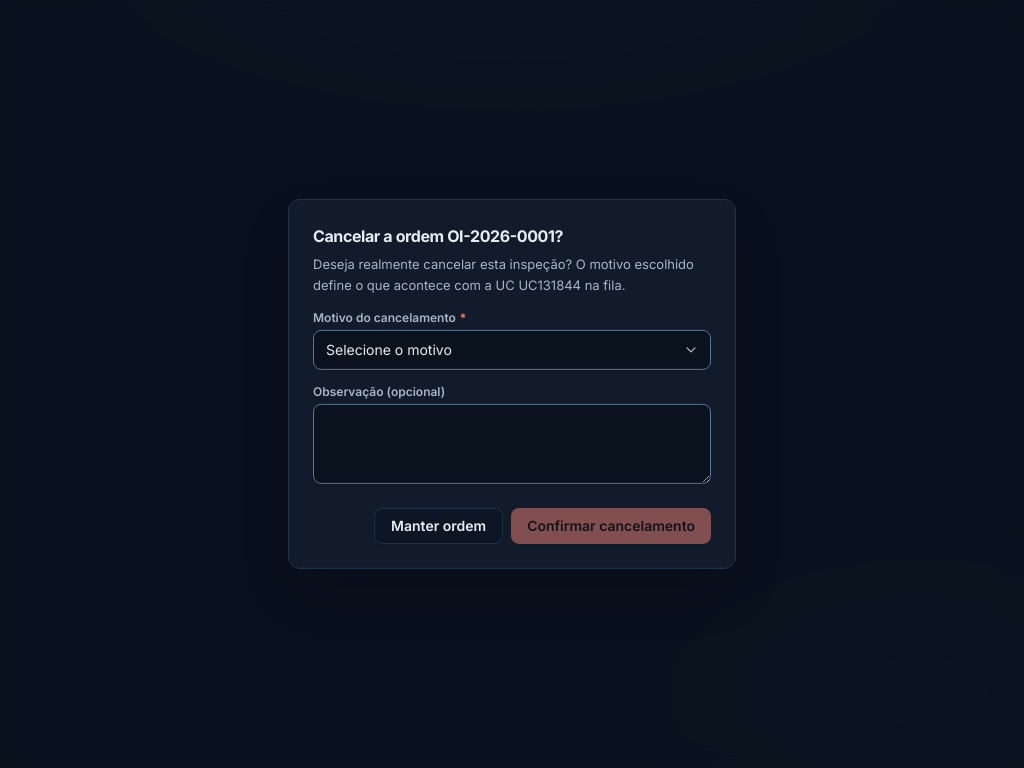
Test: CancelOrderDialog › avisa que a UC volta para a fila quando o motivo é repriorizacao_equipe
Step 1. Select "Repriorização da equipe" in the dropdown labelled "Motivo do cancelamento*" → (512, 350), box x1=313 y1=330 x2=711 y2=370
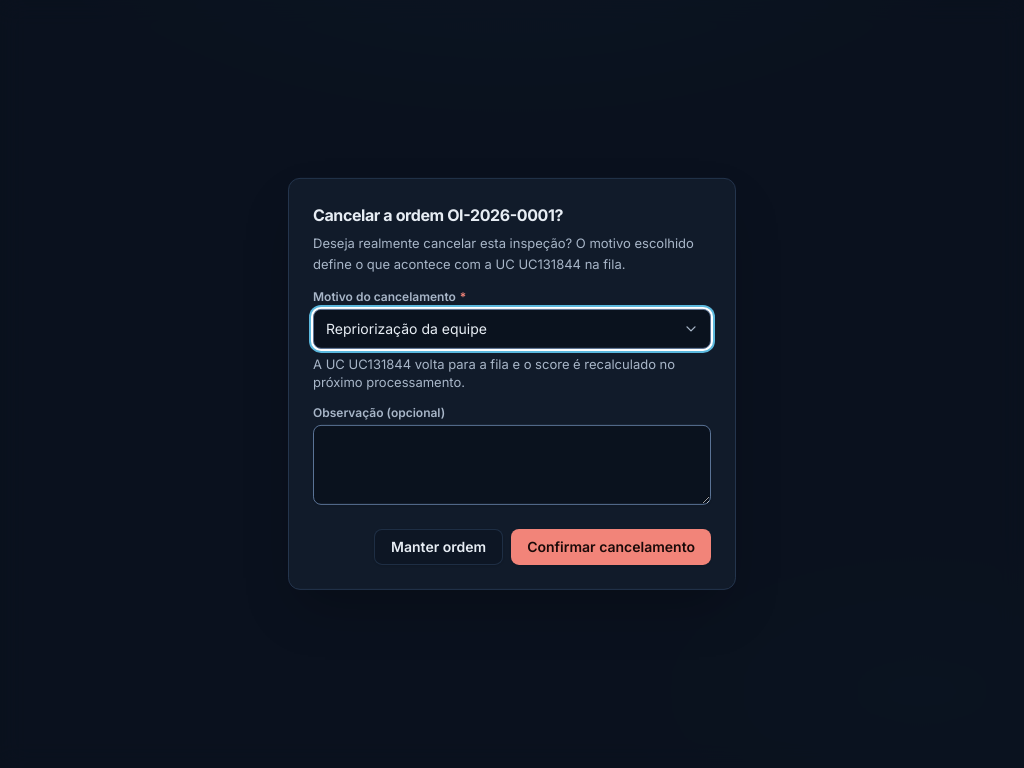
Expected: the text "A UC UC131844 volta para a fila e o score é recalculado no próximo processamento." is shown, x1=313 y1=356 x2=675 y2=390
